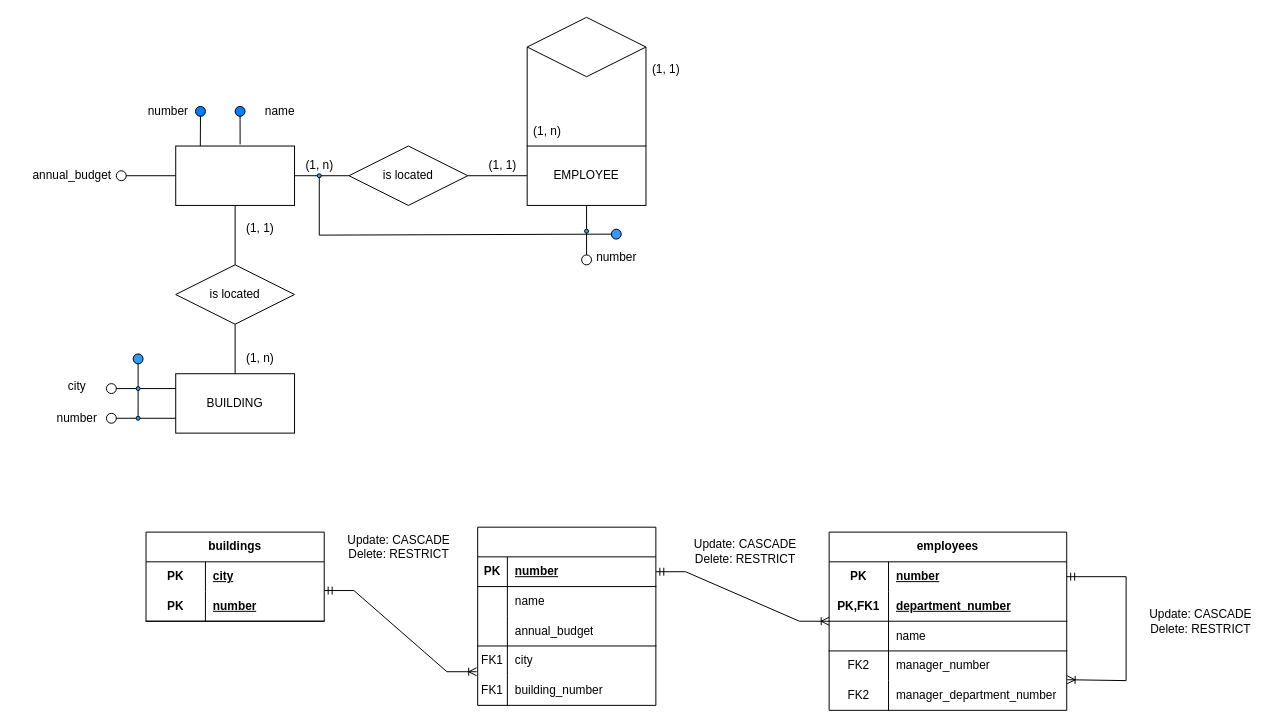
Some shapes in this 1281 by 728 pixel diagram are drawn without their labels. Here are the shapes that lost their labels. From the top down, the box of each, then its label:
(526, 16, 646, 77): is in charge of
(175, 145, 295, 205): DEPARTMENT
(477, 526, 656, 705): departments
